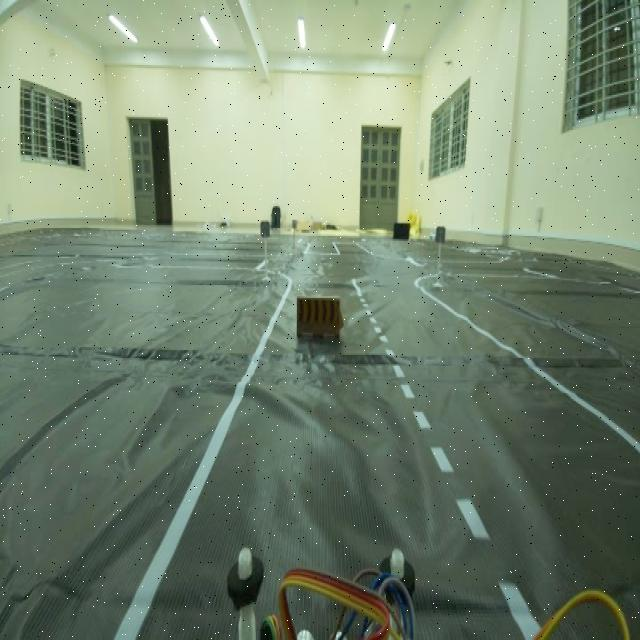roadblock: (292, 288, 345, 348)
